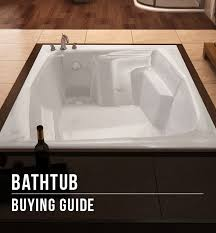bathub: (1, 41, 216, 155)
